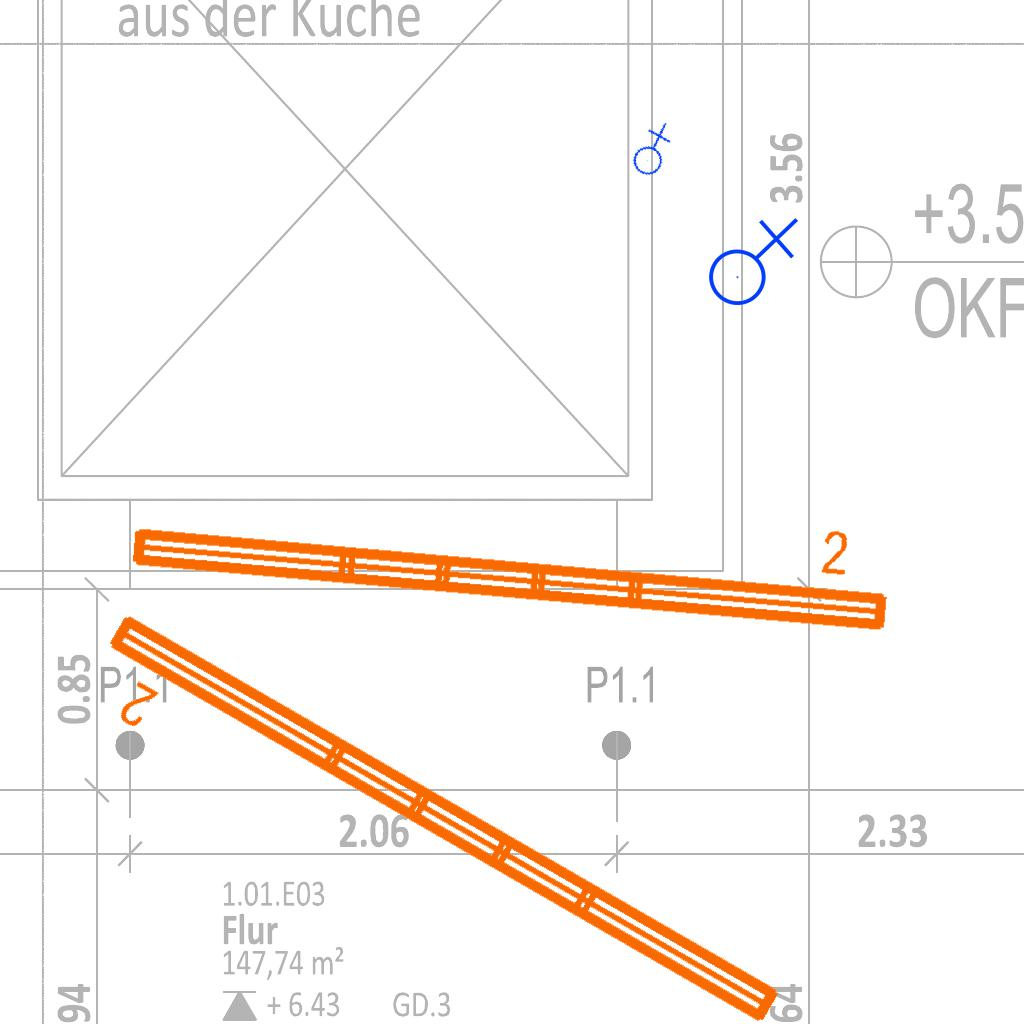Ambulanz_Pendelleuchte_LED: (68, 599, 796, 1024), (120, 464, 902, 644)
Elektroanschluss_allgemein_230V_Geraeteanschlussdose_230V: (700, 213, 799, 307), (619, 120, 682, 181)
